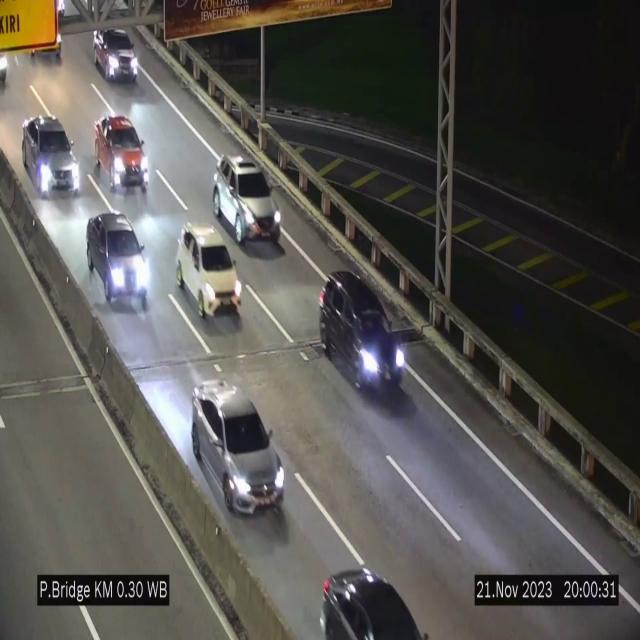Car: (192, 381, 284, 512), (322, 547, 450, 640), (316, 270, 406, 399), (212, 155, 282, 247), (85, 212, 151, 308), (177, 224, 242, 320), (23, 116, 80, 197), (95, 115, 152, 196), (94, 28, 138, 82)
